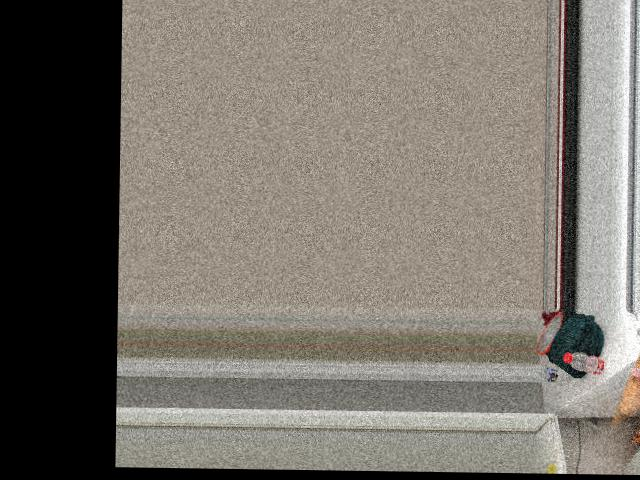sweet_potato: (617, 339, 640, 406)
